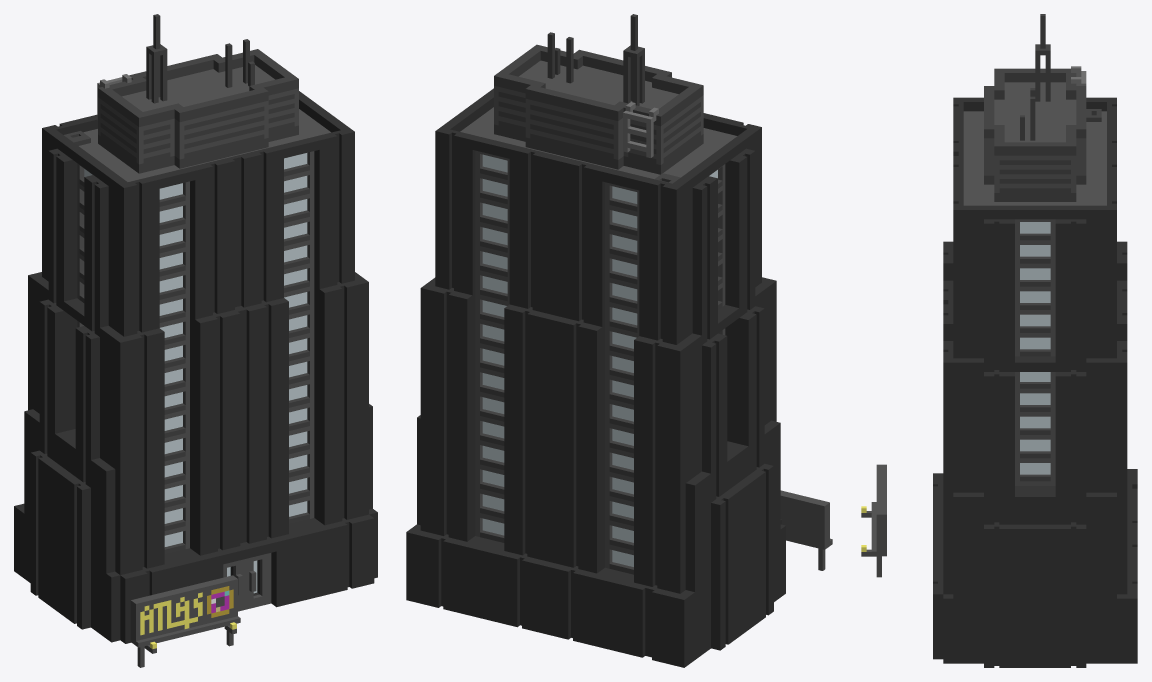
File: donuts2.obj
3 views of the same model, side by side, from view 1: azimuth 30°, elevation 25°; view 2: azimuth 150°, elevation 25°; view 3: azimuth 270°, elevation 25° (orthographic). The views are drawn at different scales.
Visible parts, largest first — view 1: donuts2; view 2: donuts2; view 3: donuts2.
Part boxes in pixels (bbox=[...]): donuts2: bbox=[14, 14, 377, 667]; donuts2: bbox=[406, 14, 832, 667]; donuts2: bbox=[861, 14, 1137, 667].
Bounding box in the file's own units: 64 × 122 × 54.
Materials: 1 (1 with a texture image).
